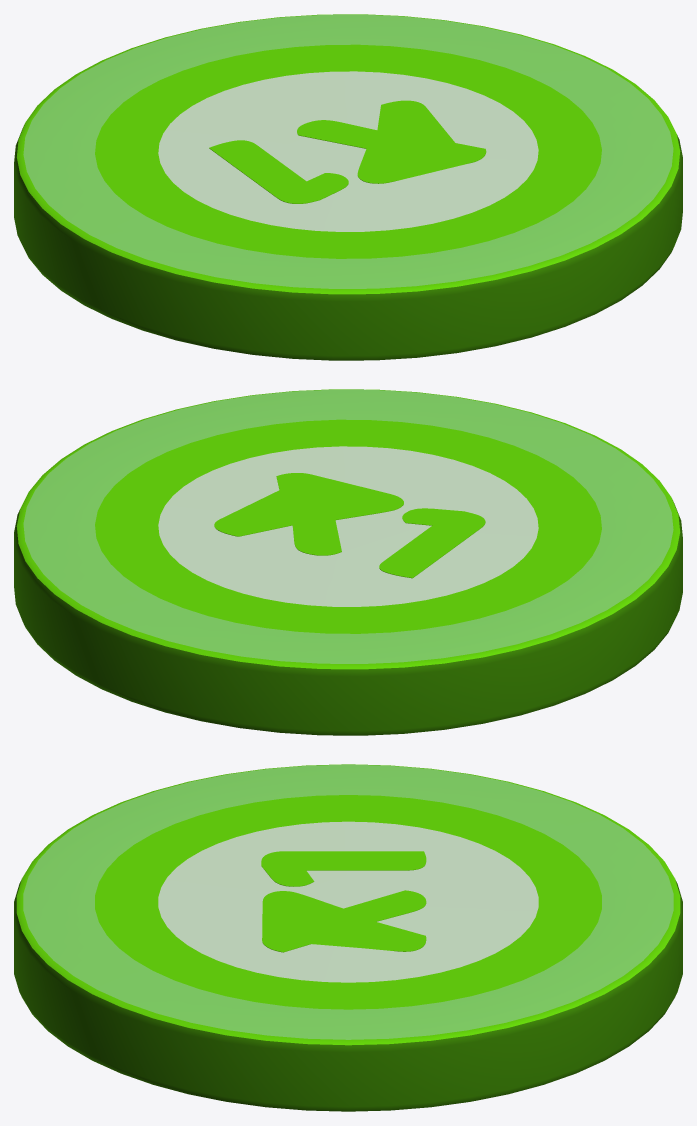
3 renders of one model, top to bottom at view 1: azimuth 30°, elevation 25°; view 2: azimuth 150°, elevation 25°; view 3: azimuth 270°, elevation 25°, orthographic.
Parts seen in each view (by area): view 1: X1; view 2: X1; view 3: X1.
Part boxes in pixels (x1=…): X1: x1=14, y1=14, x2=682, y2=360; X1: x1=14, y1=389, x2=682, y2=735; X1: x1=14, y1=764, x2=682, y2=1111.
Size of the model in its own units: 321 by 38.63 by 320.
